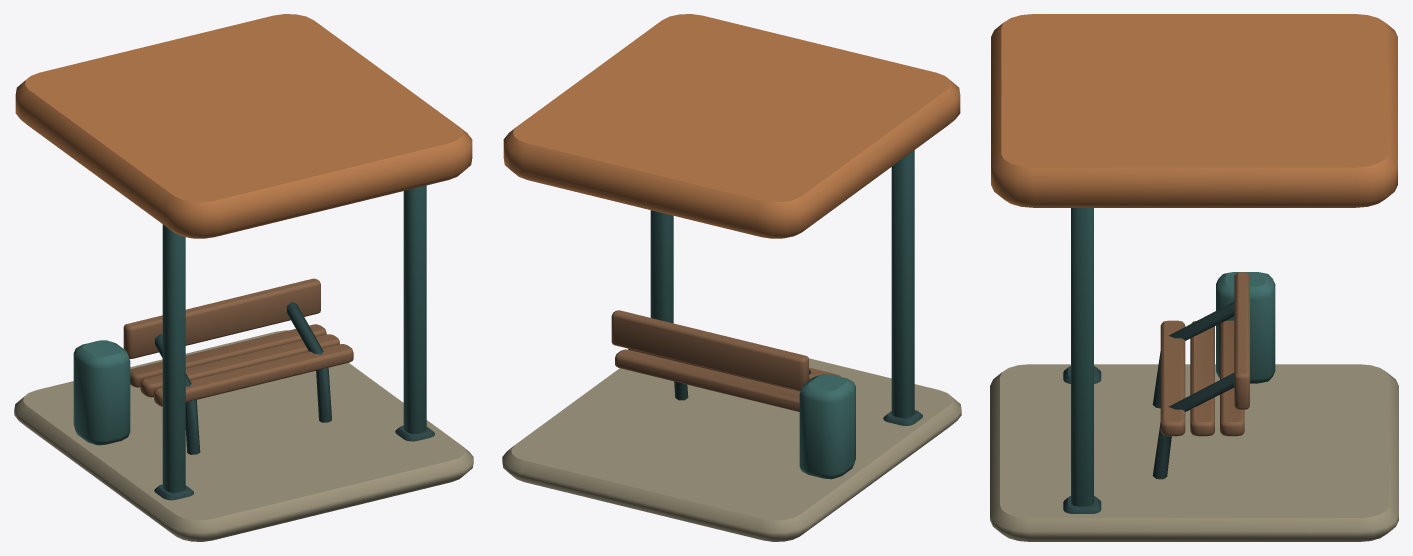
The model's file is annex_motel_3.glb.
The picture shows the model from 3 angles, left to right: view 1: azimuth 30°, elevation 25°; view 2: azimuth 150°, elevation 25°; view 3: azimuth 270°, elevation 25°; orthographic projection. The views are drawn at different scales.
Parts seen in each view (by area): view 1: AnnexMotel3; view 2: AnnexMotel3; view 3: AnnexMotel3.
Part boxes in pixels (<box>): AnnexMotel3: <box>14,14,473,541</box>; AnnexMotel3: <box>502,14,961,541</box>; AnnexMotel3: <box>990,14,1398,541</box>.
Size of the model in its own units: 2.33 by 2.51 by 2.48.
